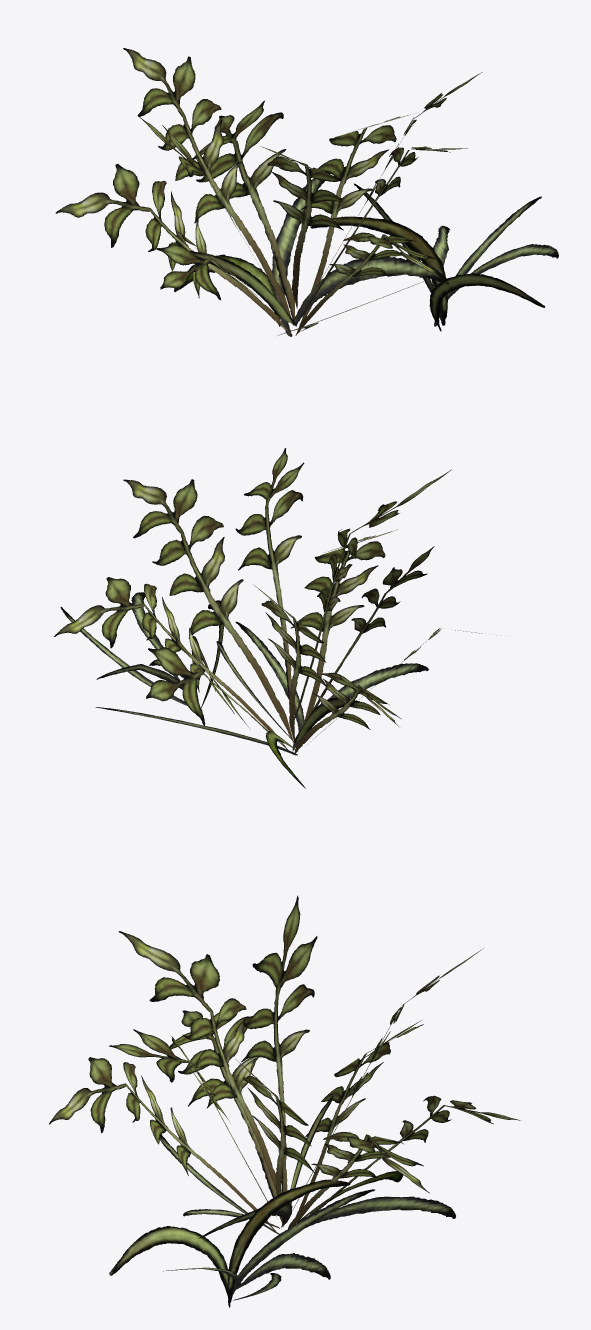
File: FOL_BushA.FBX
The picture shows the model from 3 angles, top to bottom: view 1: azimuth 30°, elevation 25°; view 2: azimuth 150°, elevation 25°; view 3: azimuth 270°, elevation 25°; orthographic projection. The views are drawn at different scales.
Parts seen in each view (by area): view 1: FOL_BushA; view 2: FOL_BushA; view 3: FOL_BushA.
Boxes of the visible parts, x1,y1,x2,y2 form: FOL_BushA: (55, 48, 558, 336); FOL_BushA: (54, 448, 501, 788); FOL_BushA: (49, 895, 520, 1307).
Bounding box in the file's own units: 759 × 495 × 731.
Materials: 1 (1 with a texture image).
